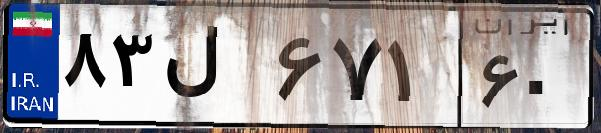0: (525, 38, 570, 115)
1: (385, 28, 445, 110)
3: (110, 28, 158, 98)
6: (270, 28, 330, 110), (475, 38, 525, 113)
7: (330, 28, 385, 110)
8: (57, 26, 110, 100)
ل: (158, 20, 270, 120)
